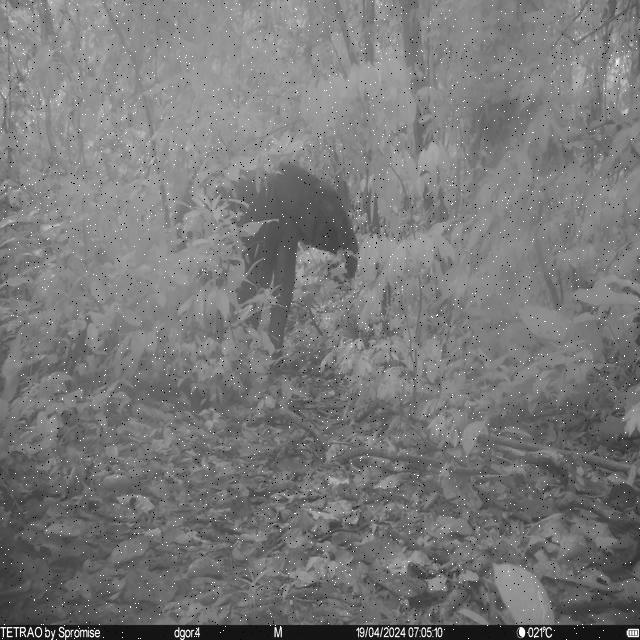elephant: (186, 153, 359, 364)
